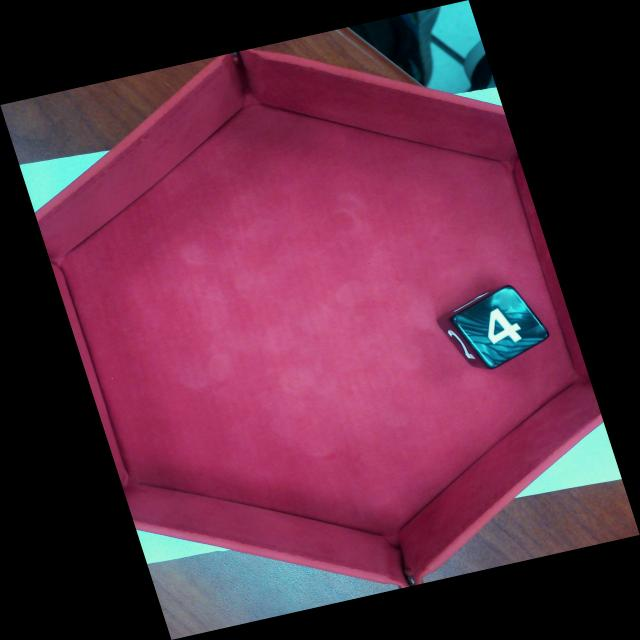dice: (448, 280, 554, 373)
